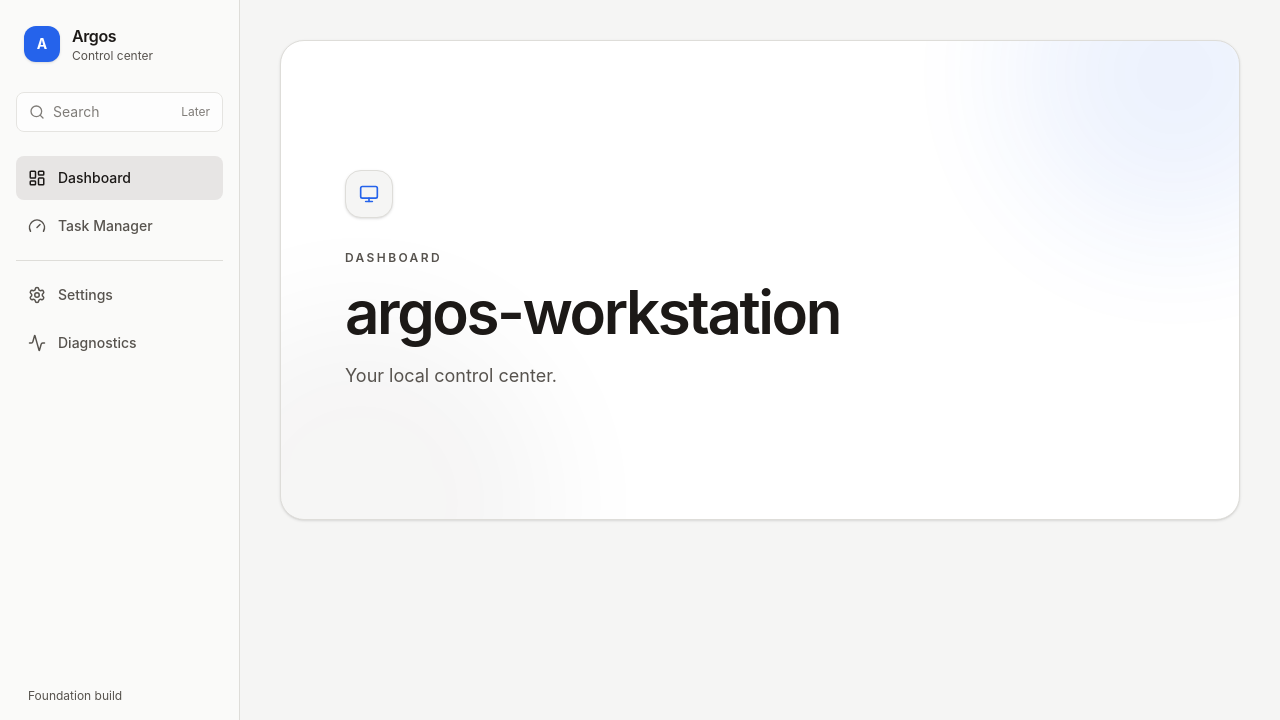
Test case: application shell › lazy-loads Task Manager and starts no feature read on other routes
Expected: the heading "argos-workstation" is shown, [345, 282, 840, 342]
Click the link "Task Manager".
click(90, 226)  # box [28, 217, 153, 235]
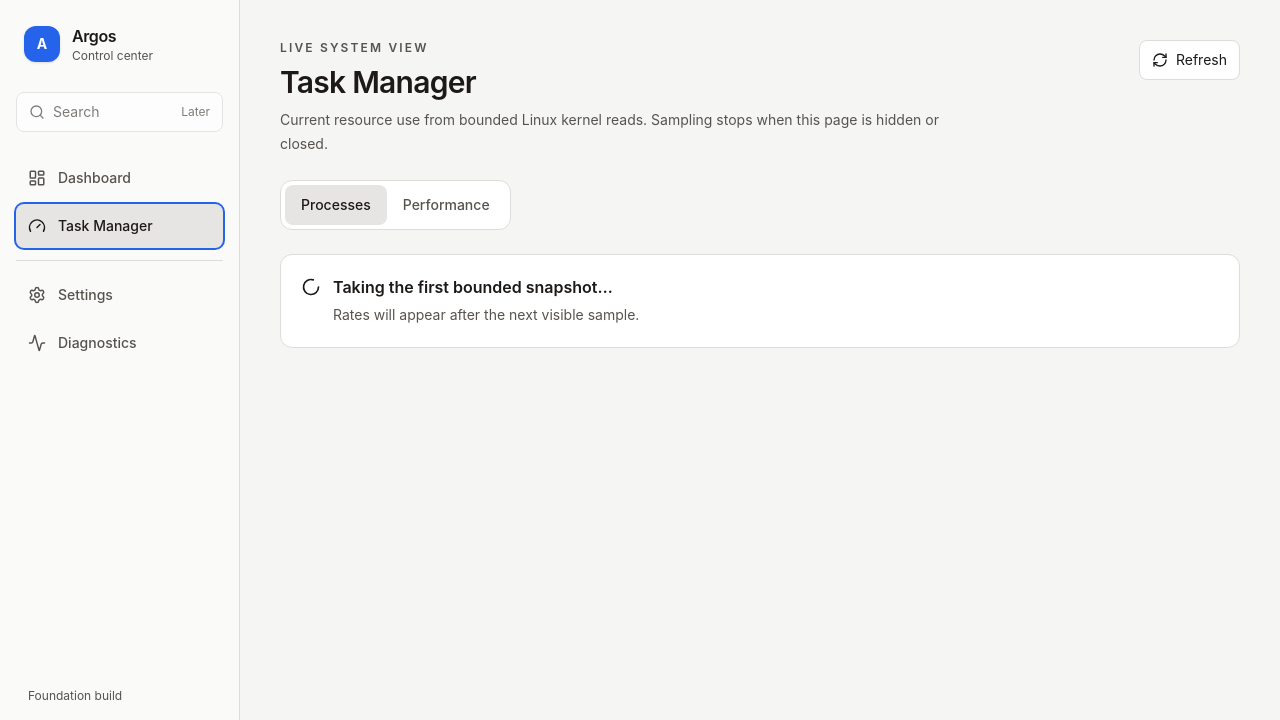
Expected: the heading "Task Manager" is shown, [280, 64, 476, 100]
